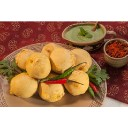bonda: (38, 77, 65, 102), (65, 69, 90, 96), (12, 73, 37, 100), (26, 55, 50, 81), (71, 48, 93, 73), (54, 48, 72, 71)
